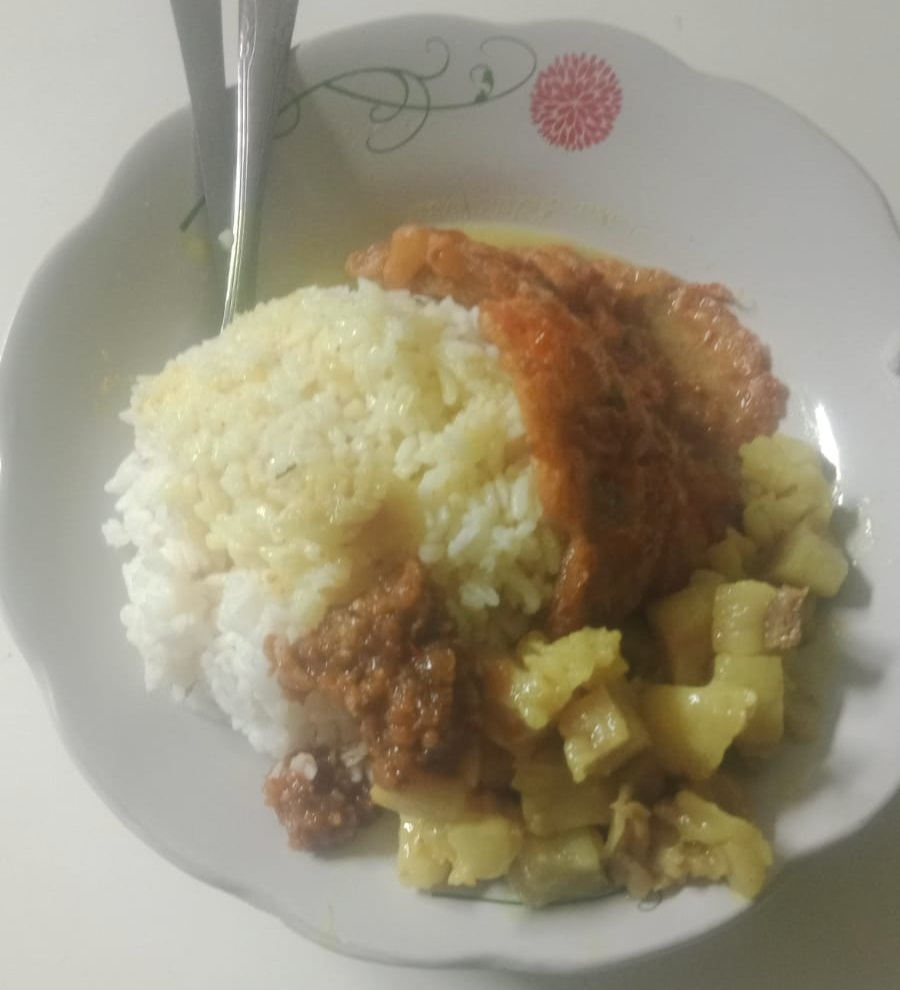Nasi: (88, 282, 495, 548)
Rawon: (473, 618, 801, 901)
Sambel: (259, 586, 449, 804)
Telur_dadar: (534, 221, 751, 564)
